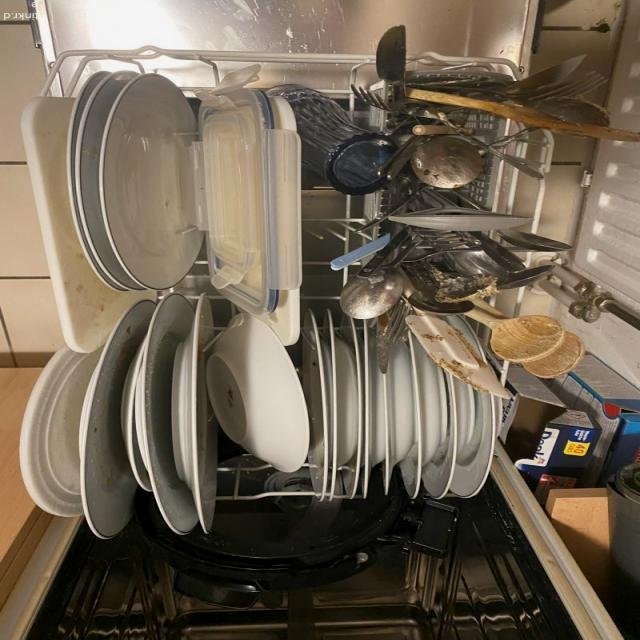clutery_bin: (354, 54, 588, 394)
